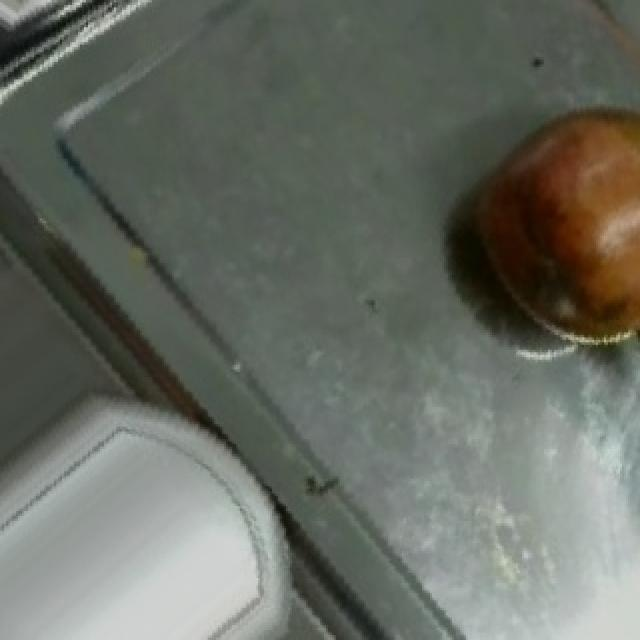fruit: (446, 74, 640, 370)
